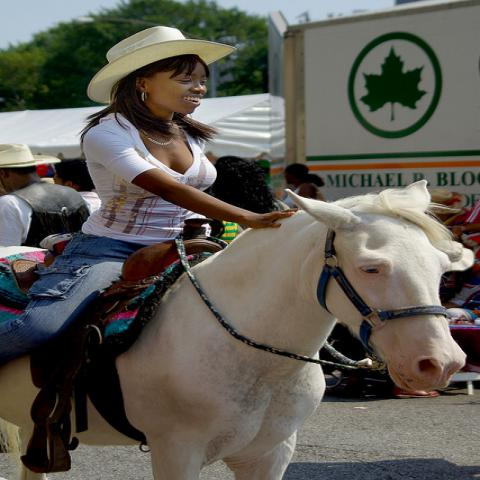truck: (278, 1, 477, 235)
